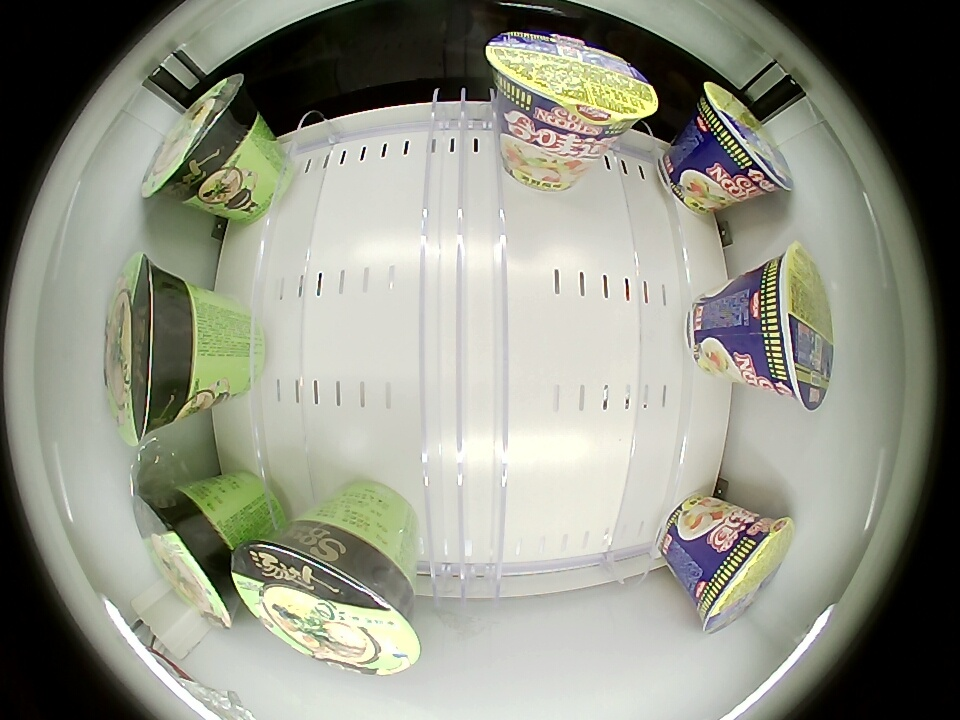heweidao: (487, 30, 657, 145), (755, 243, 835, 410), (692, 514, 794, 634), (693, 80, 794, 200)
tangdaren: (230, 522, 421, 677), (105, 256, 210, 443), (129, 463, 237, 633), (140, 72, 260, 206)
